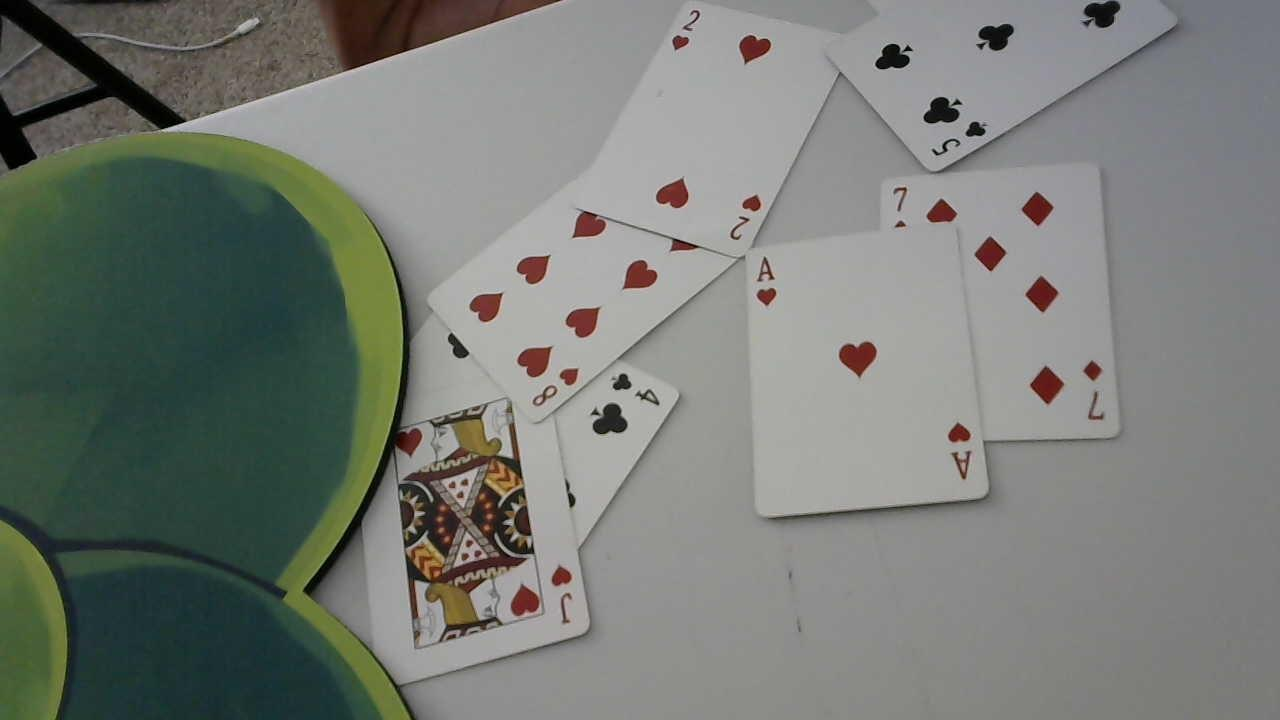2H: (725, 189, 762, 248), (667, 4, 702, 54)
4C: (606, 364, 670, 414)
5C: (923, 114, 992, 159)
7D: (1078, 357, 1111, 425)
8H: (526, 360, 581, 414)
AH: (938, 412, 980, 486), (752, 249, 786, 317)
JH: (544, 558, 584, 625)
